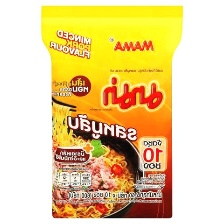snack: (34, 0, 190, 224)
